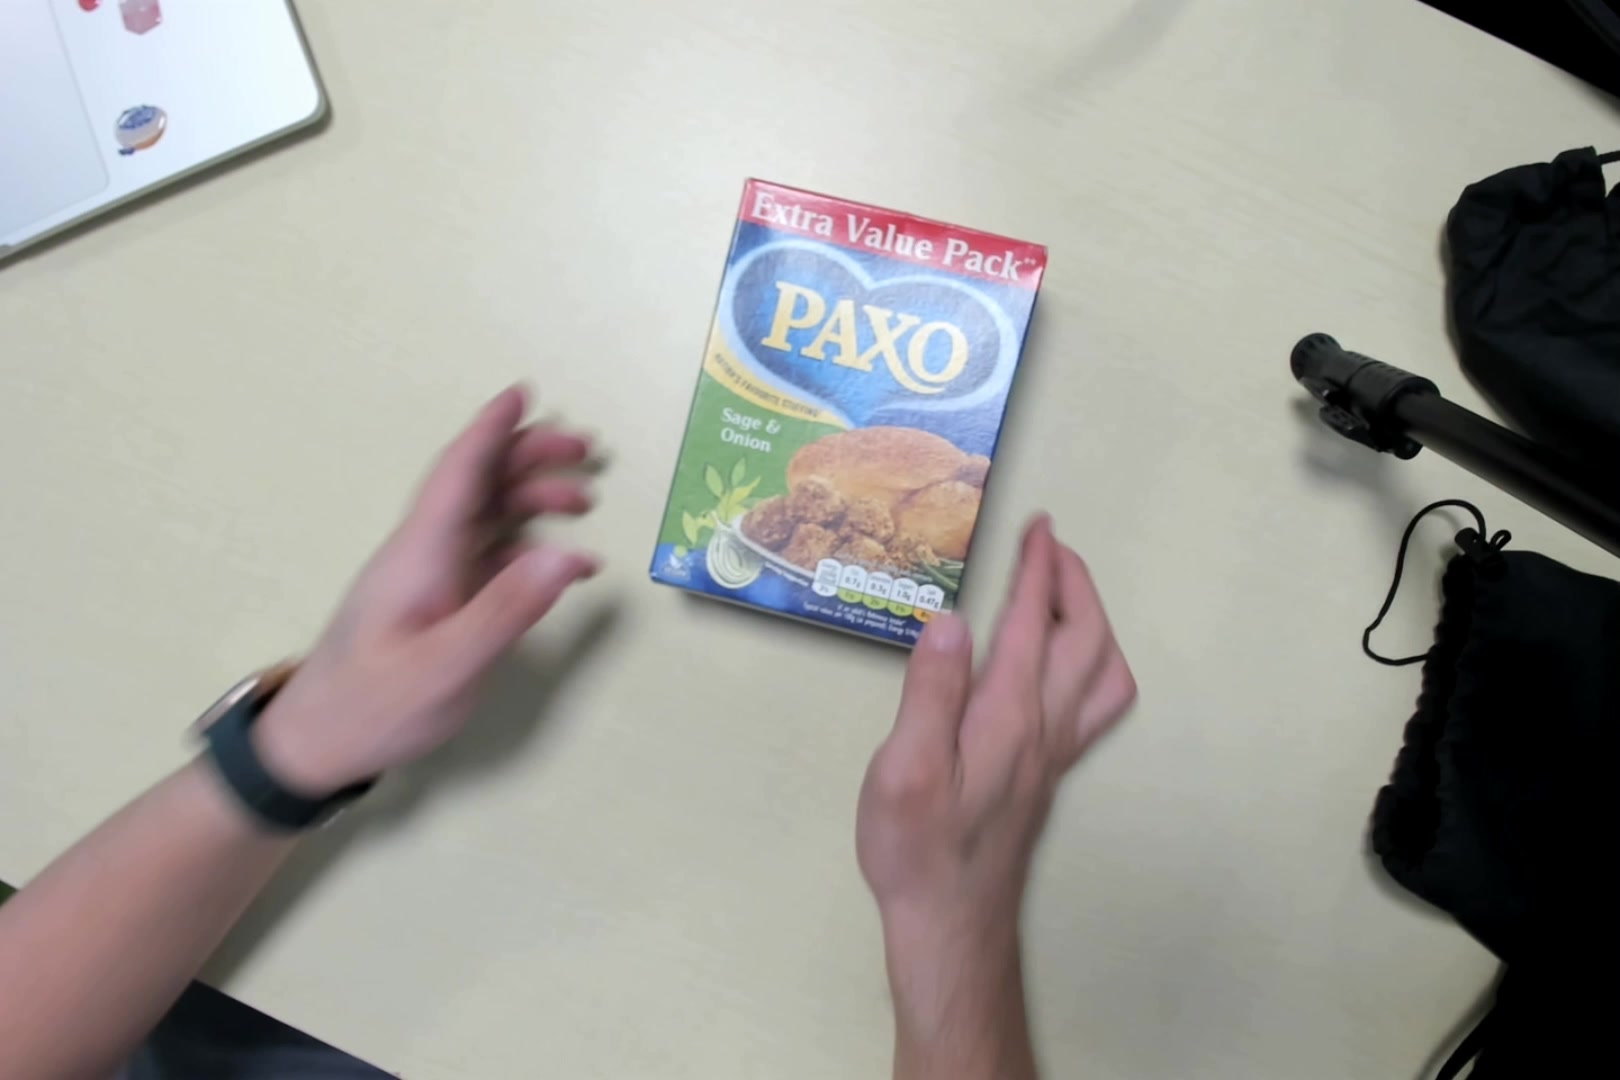OtherBakingNeeds_300-399g_NonHalal_NonHealthy: (650, 166, 1050, 651)
